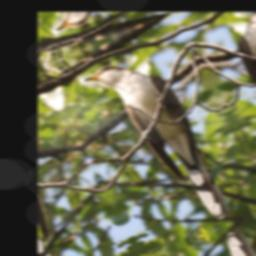Cuckoo: (79, 45, 243, 242)
